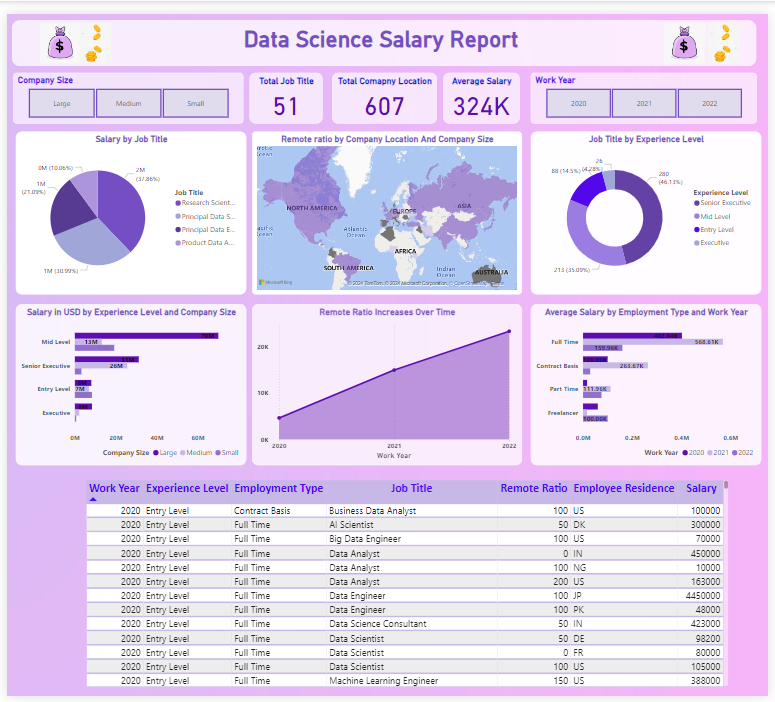

What the dashboard file says about the page in this screenshot:
{"tool":"powerbi","page":{"name":"Page 1","canvas":[1450,1300],"ordinal":0},"visuals":[{"type":"pieChart","title":"Salary by Job Title","fields":{"Y":["Sum(New Report.Salary)"],"Category":["New Report.Job Title"]},"box":[17.9,223.2,439.3,310.7],"z":0},{"type":"clusteredBarChart","title":"Salary in USD by  Experience Level and Company Size","fields":{"Series":["New Report.Company Size"],"Category":["New Report.Experience Level"],"Y":["Sum(New Report.Salary)"]},"box":[17.9,553.6,439.3,307.1],"z":1000},{"type":"donutChart","title":"Job Title by Experience Level","fields":{"Category":["New Report.Experience Level"],"Y":["CountNonNull(New Report.Job Title)"]},"box":[998.2,223.2,439.3,310.7],"z":2000},{"type":"card","title":"Total Job Title","fields":{"Values":["Count(New Report.Job Title)"]},"box":[462.1,112.1,139.4,97],"z":3000},{"type":"card","title":"Total Comapny Location","fields":{"Values":["CountNonNull(New Report.Company Location)"]},"box":[618.2,112.1,200,97],"z":4000},{"type":"card","title":"Average Salary","fields":{"Values":["Avg(New Report.Salary)"]},"box":[830.3,112.1,145.5,97],"z":5000},{"type":"textbox","box":[10,13,1417.7,87],"z":6000},{"type":"image","box":[56.5,12.9,88.7,87.1],"z":7000},{"type":"image","box":[121,12.9,95.2,87.1],"z":8000},{"type":"image","box":[1240.3,12.9,100,87.1],"z":9000},{"type":"image","box":[1322.6,12.9,90.3,87.1],"z":10000},{"type":"slicer","title":"Company Size","fields":{"Values":["New Report.Company Size"]},"box":[11,112,438,97],"z":11000},{"type":"slicer","title":"Work Year","fields":{"Values":["New Report.Work Year"]},"box":[998.5,112.1,430.3,97],"z":12000},{"type":"filledMap","title":"Remote ratio by Company Location And Company Size ","fields":{"Category":["New Report.Company Location"],"Series":["New Report.Remote Ratio"],"Y":["Min(New Report.Company Size)"]},"box":[467.9,223.2,514.3,310.7],"z":13000},{"type":"clusteredBarChart","title":"Average Salary by Employment Type and Work Year","fields":{"Y":["Avg(New Report.Salary)"],"Category":["New Report.Employment Type"],"Series":["New Report.Work Year"]},"box":[998.2,553.6,439.3,307.1],"z":14000},{"type":"lineChart","title":"Remote Ratio Increases Over Time","fields":{"Y":["Sum(New Report.Remote Ratio)"],"Category":["New Report.Work Year"]},"box":[467.9,553.6,514.3,307.1],"z":15000},{"type":"tableEx","fields":{"Values":["New Report.Work Year","New Report.Experience Level","New Report.Employment Type","New Report.Job Title","Sum(New Report.Remote Ratio)","New Report.Employee Residence","Sum(New Report.Salary)"]},"box":[146.4,883.9,1233.9,401.8],"z":16000}]}

Visuals, with their boxes in screenshot pixels (x1, y1, x2, y2), scaled from the page's 1450x1300 canvas onto the 775x702 screenshot:
"Salary by Job Title" pieChart: pyautogui.locateOnScreen(10, 121, 244, 288)
"Salary in USD by  Experience Level and Company Size" clusteredBarChart: pyautogui.locateOnScreen(10, 299, 244, 465)
"Job Title by Experience Level" donutChart: pyautogui.locateOnScreen(534, 121, 768, 288)
"Total Job Title" card: pyautogui.locateOnScreen(247, 61, 321, 113)
"Total Comapny Location" card: pyautogui.locateOnScreen(330, 61, 437, 113)
"Average Salary" card: pyautogui.locateOnScreen(444, 61, 522, 113)
textbox: pyautogui.locateOnScreen(5, 7, 763, 54)
image: pyautogui.locateOnScreen(30, 7, 78, 54)
image: pyautogui.locateOnScreen(65, 7, 116, 54)
image: pyautogui.locateOnScreen(663, 7, 716, 54)
image: pyautogui.locateOnScreen(707, 7, 755, 54)
"Company Size" slicer: pyautogui.locateOnScreen(6, 60, 240, 113)
"Work Year" slicer: pyautogui.locateOnScreen(534, 61, 764, 113)
"Remote ratio by Company Location And Company Size " filledMap: pyautogui.locateOnScreen(250, 121, 525, 288)
"Average Salary by Employment Type and Work Year" clusteredBarChart: pyautogui.locateOnScreen(534, 299, 768, 465)
"Remote Ratio Increases Over Time" lineChart: pyautogui.locateOnScreen(250, 299, 525, 465)
tableEx - New Report.Work Year x New Report.Experience Level: pyautogui.locateOnScreen(78, 477, 738, 694)
